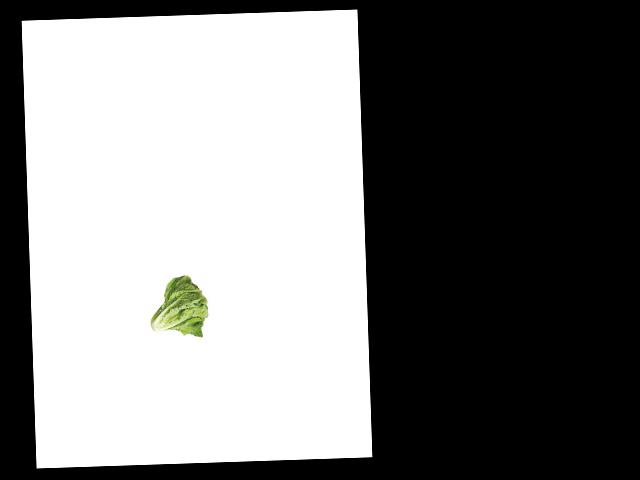lettuce: (145, 273, 211, 340)
